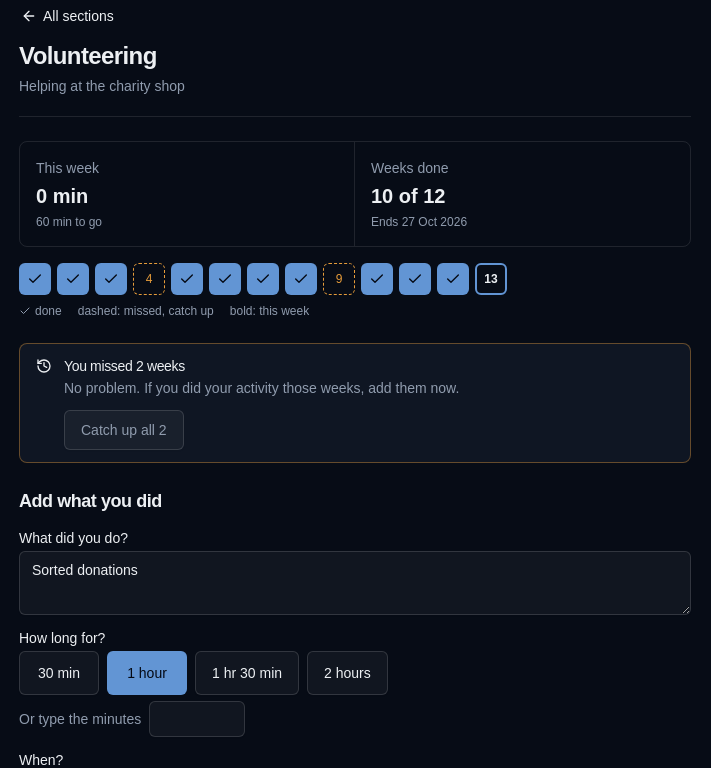
Test: logging a week › says what to fix instead of sending a blank, a future day or no time
Clear the text box labelled "What did you do?" at coordinates (355, 583), box [19,551,691,615]
(page scrolled)
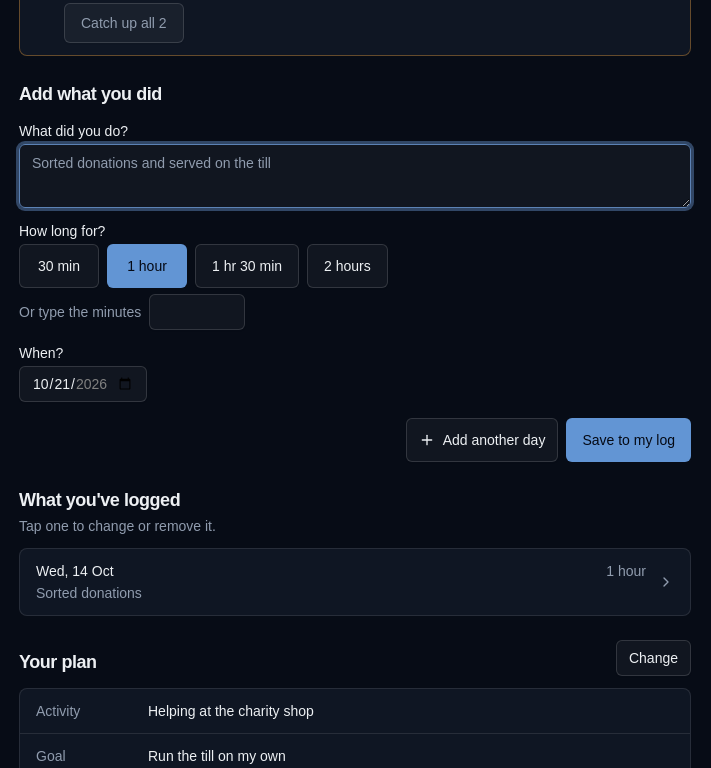
Type "2026-10-30" into the date field labelled "When?".
click(83, 384); type("2026-10-30")  # box [19,366,147,402]
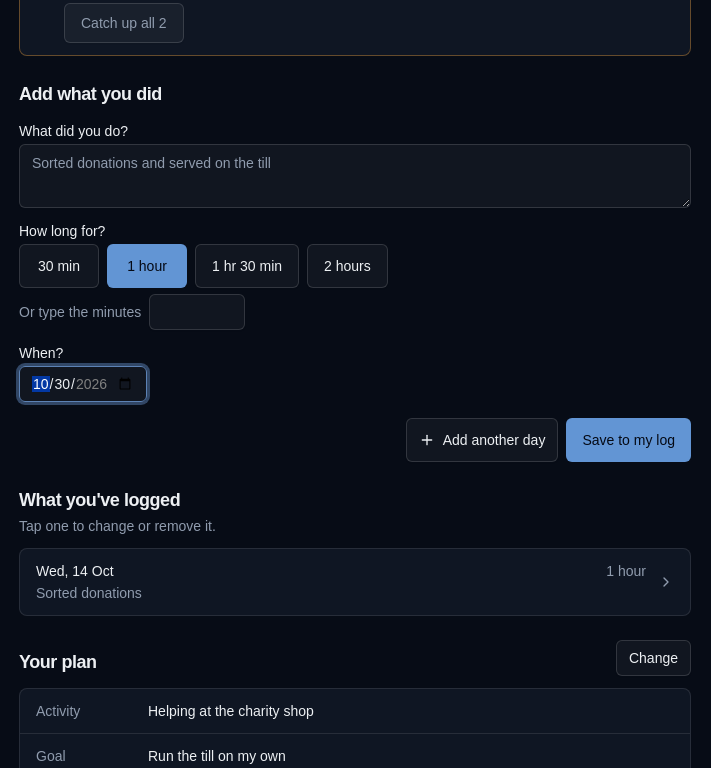
Type "700" into the number field labelled "Or type the minutes".
click(197, 312); type("700")  # box [149,294,245,330]
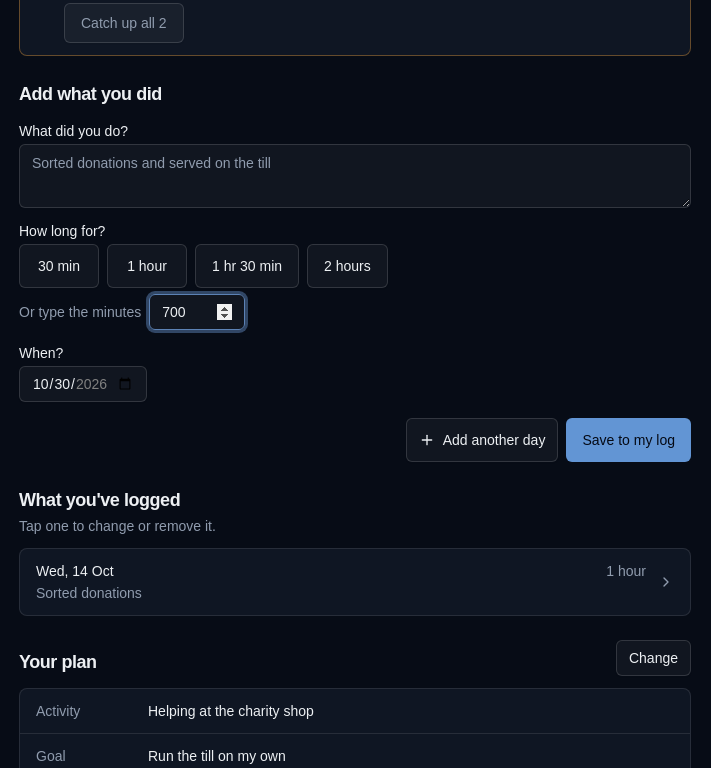
Click the button "Save to my log".
click(629, 440)  # box [566,418,691,462]
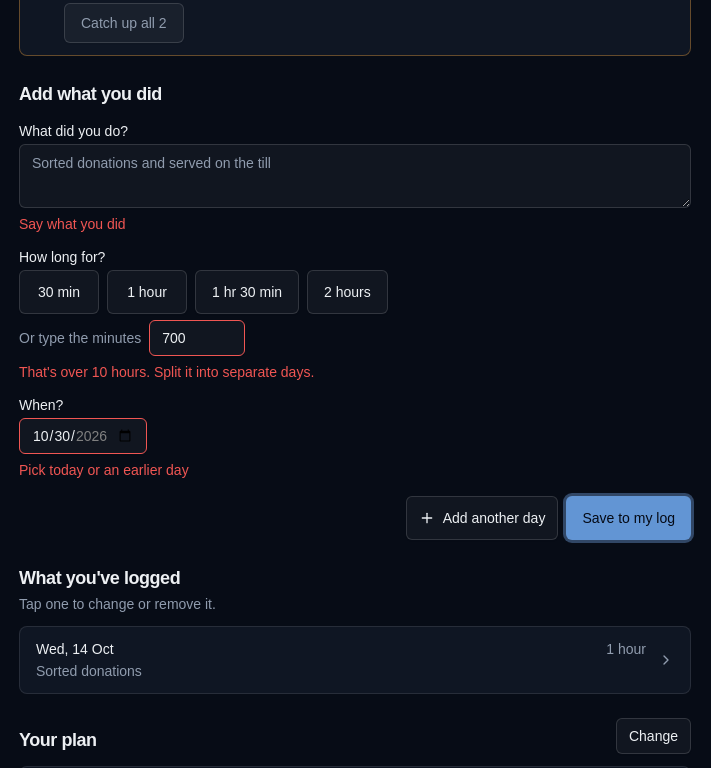
Expected: the text "Say what you did" is shown, [19,216,126,232]
Expected: the text "Pick today or an earlier day" is shown, [19,462,189,478]
Expected: the text "That's over 10 hours. Split it into separate days." is shown, [19,364,314,380]
